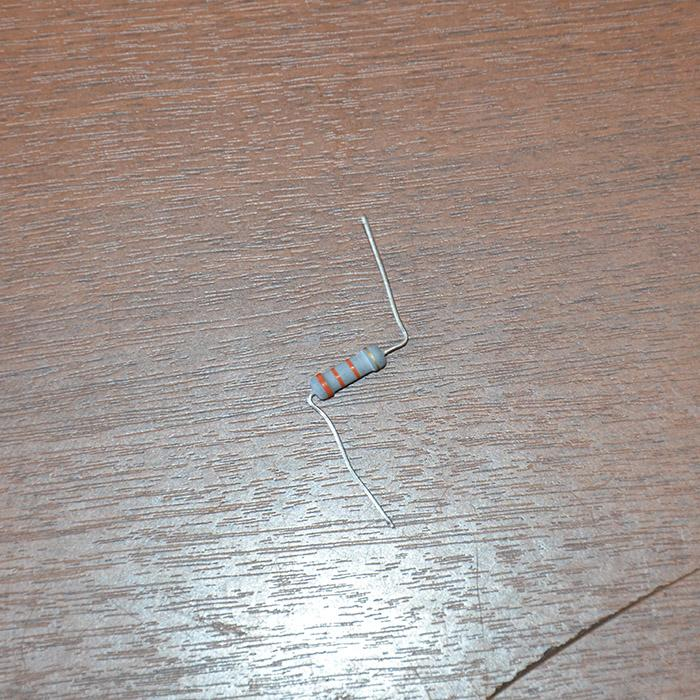resistor: (308, 344, 388, 402)
